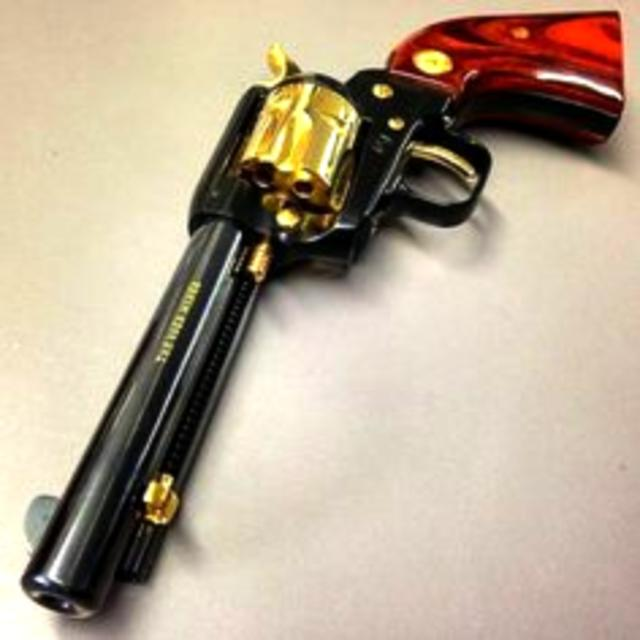revolver: (16, 0, 634, 617)
